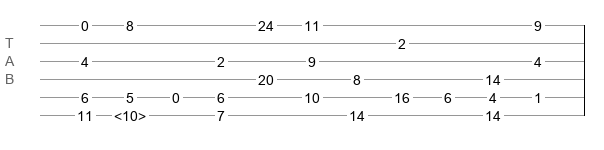0: (81, 18, 89, 28), (172, 90, 180, 100)
1: (534, 90, 542, 100)
10: (304, 90, 320, 100)
11: (77, 108, 93, 118), (304, 18, 320, 28)
14: (349, 108, 365, 118), (485, 72, 501, 82), (485, 108, 501, 118)
16: (394, 90, 410, 100)
2: (217, 54, 225, 64), (398, 36, 406, 46)
20: (258, 72, 274, 82)
24: (258, 18, 274, 28)
4: (81, 54, 89, 64), (489, 90, 497, 100), (534, 54, 542, 64)
5: (126, 90, 134, 100)
6: (81, 90, 89, 100), (217, 90, 225, 100), (444, 90, 452, 100)
7: (217, 108, 225, 118)
8: (126, 18, 134, 28), (353, 72, 361, 82)
9: (308, 54, 316, 64), (534, 18, 542, 28)
harmonic: (114, 108, 146, 118)
